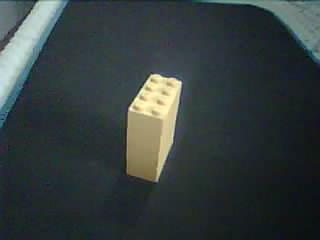lego: (125, 71, 182, 184)
